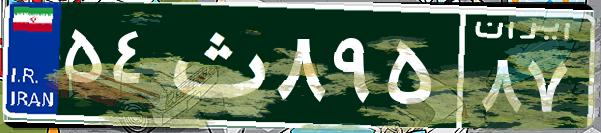4: (110, 28, 158, 105)
5: (385, 28, 445, 110), (57, 26, 110, 107)
7: (525, 38, 570, 115)
8: (273, 28, 330, 110), (475, 38, 525, 113)
9: (330, 28, 385, 110)
ث: (158, 15, 273, 115)
